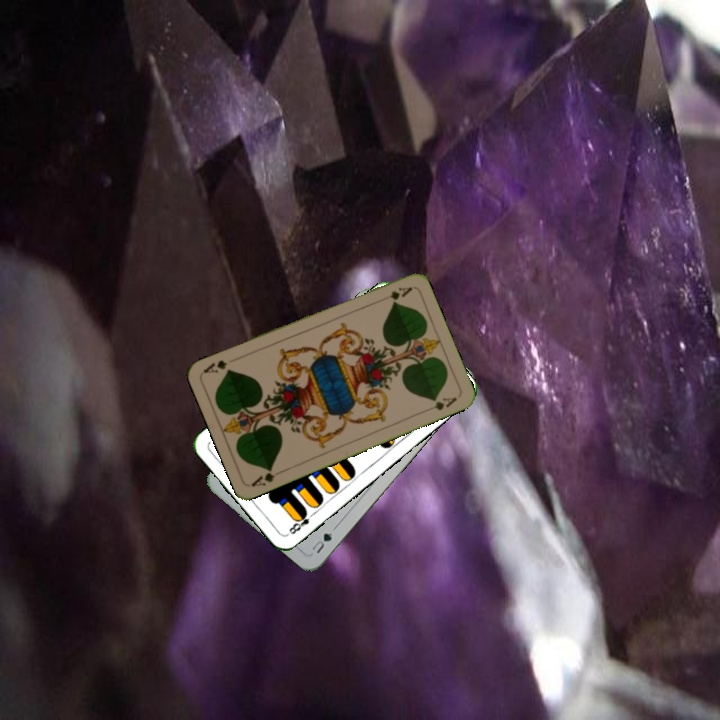E8: (285, 507, 318, 537)
GA: (248, 464, 286, 489), (386, 283, 414, 303)
GU: (307, 528, 335, 556)
